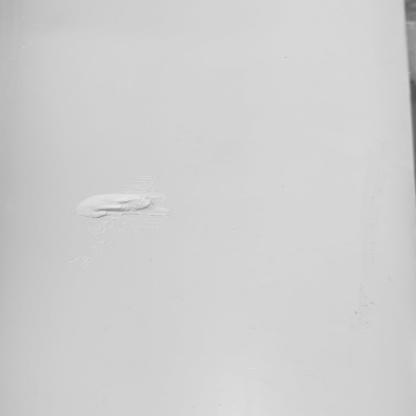sunshang: (71, 192, 168, 222)
